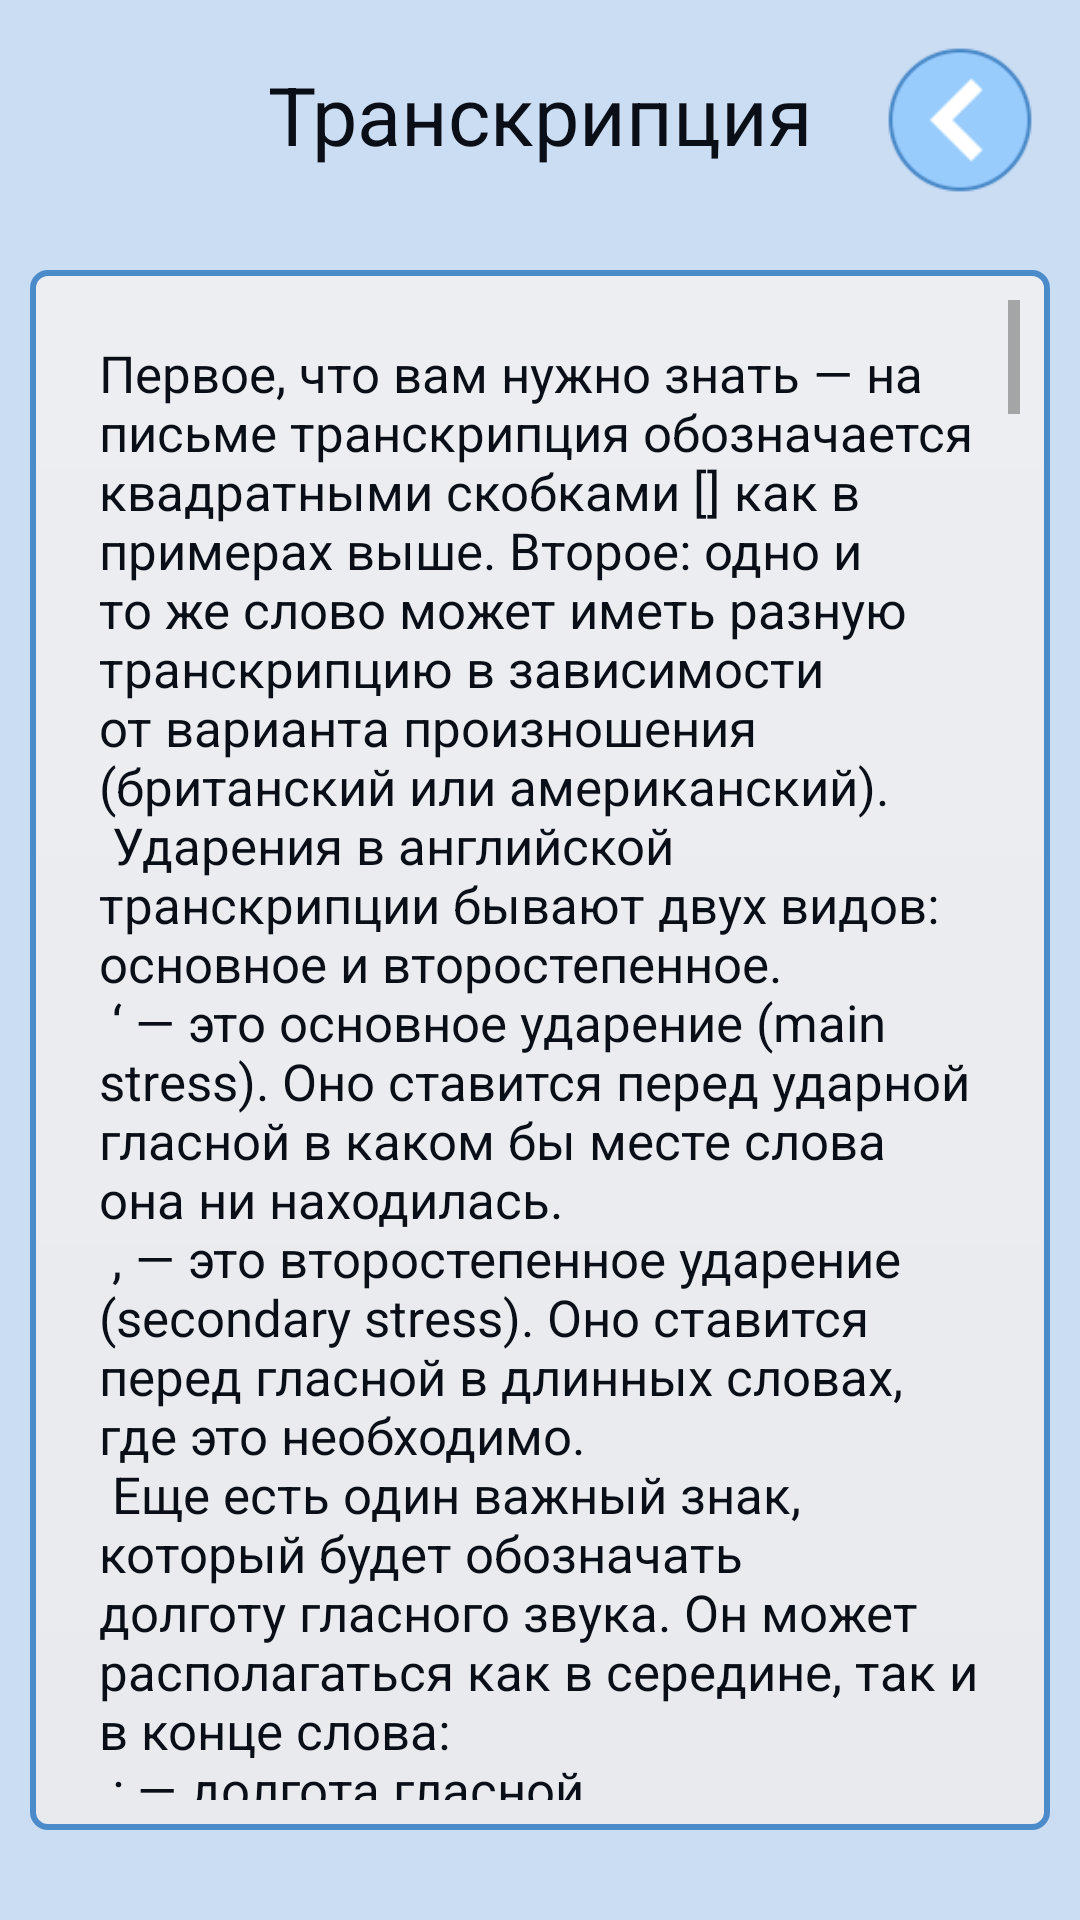

Icon bounding boxes for this 1080px×1920px phone screenshot, format (x1, y1, x2, y2):
arrow menu: (888, 48, 1032, 192)
